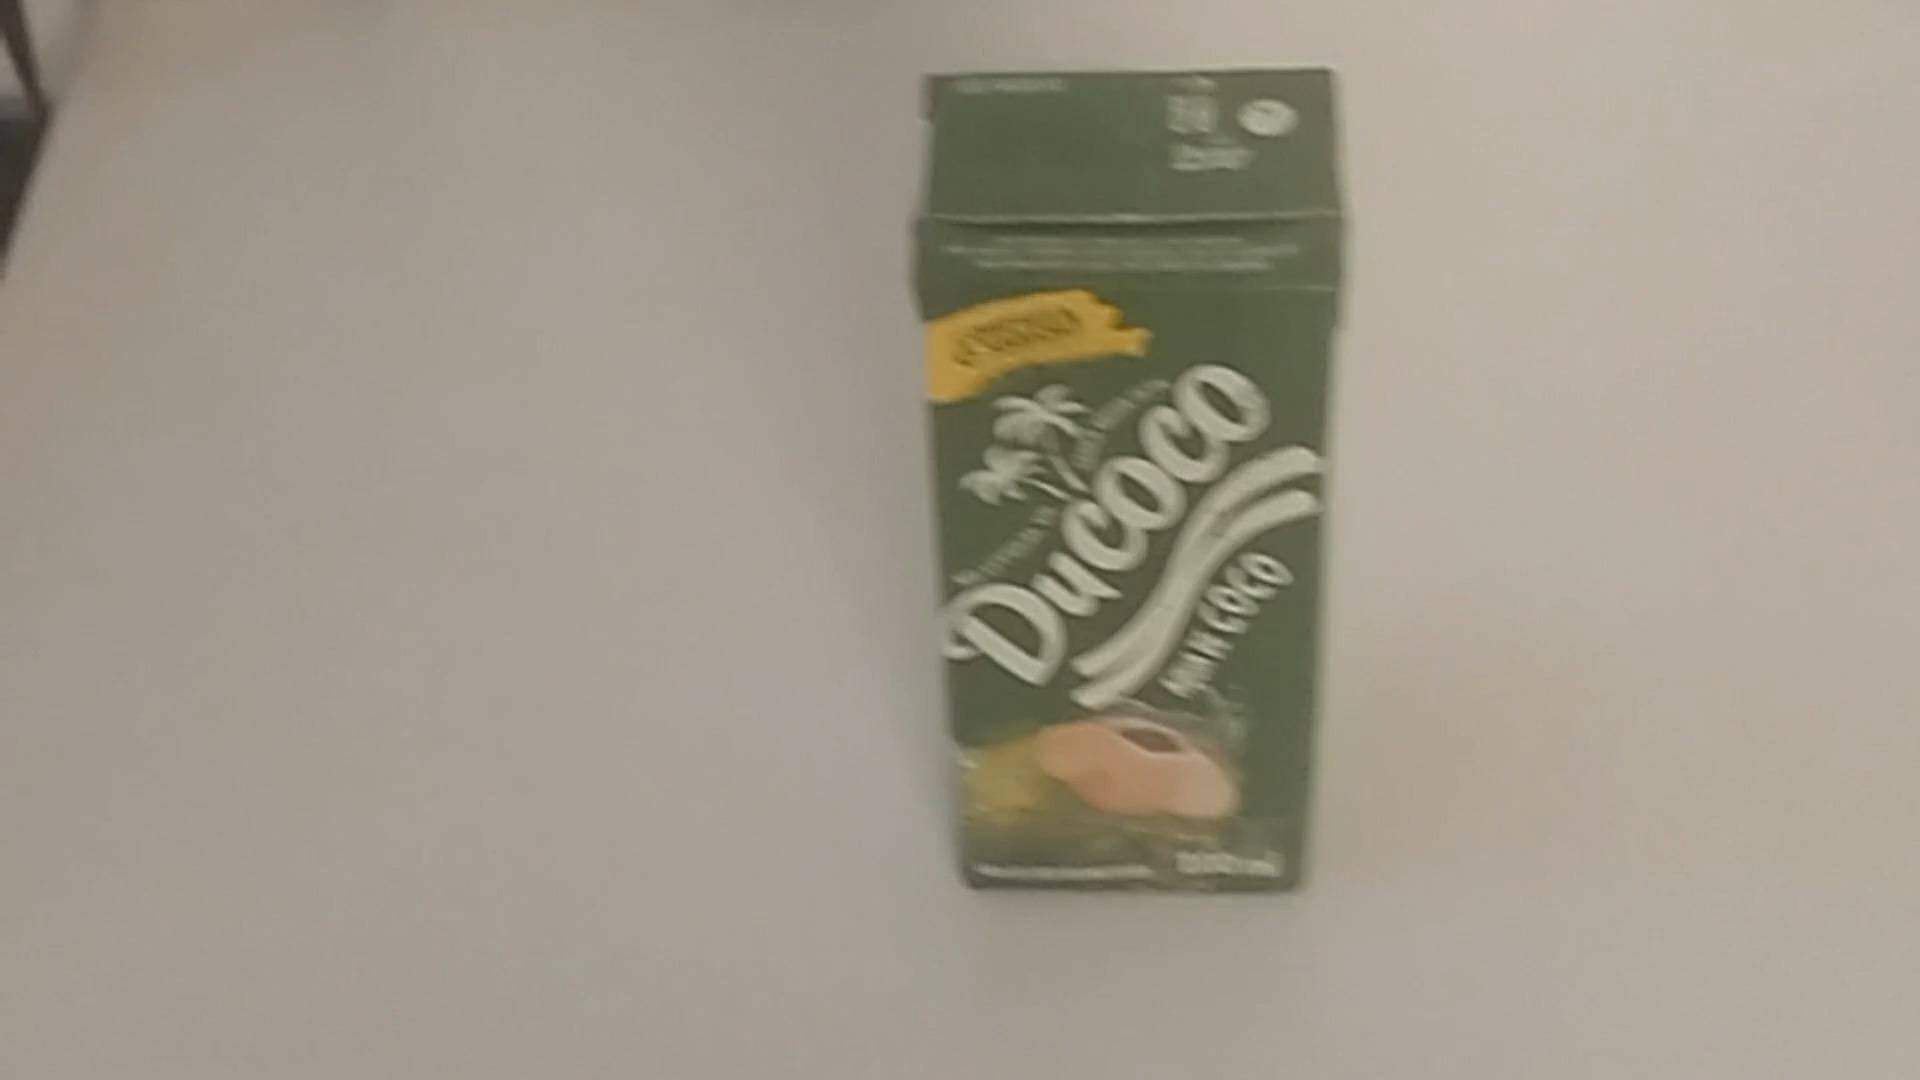coco: (915, 66, 1345, 906)
